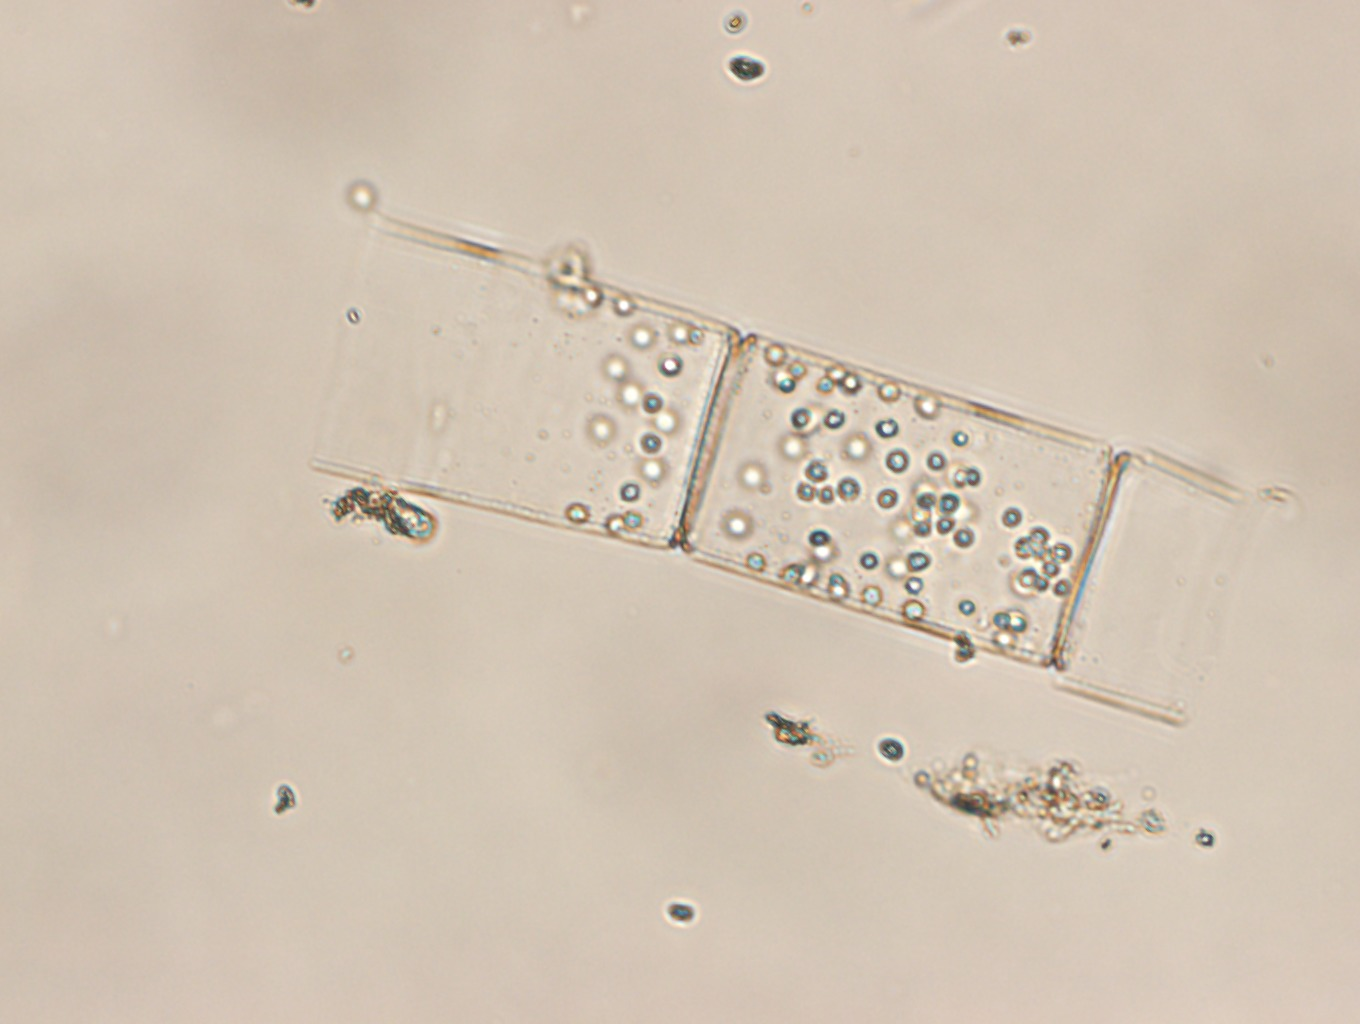guinardia flaccida: (307, 207, 1240, 733)
